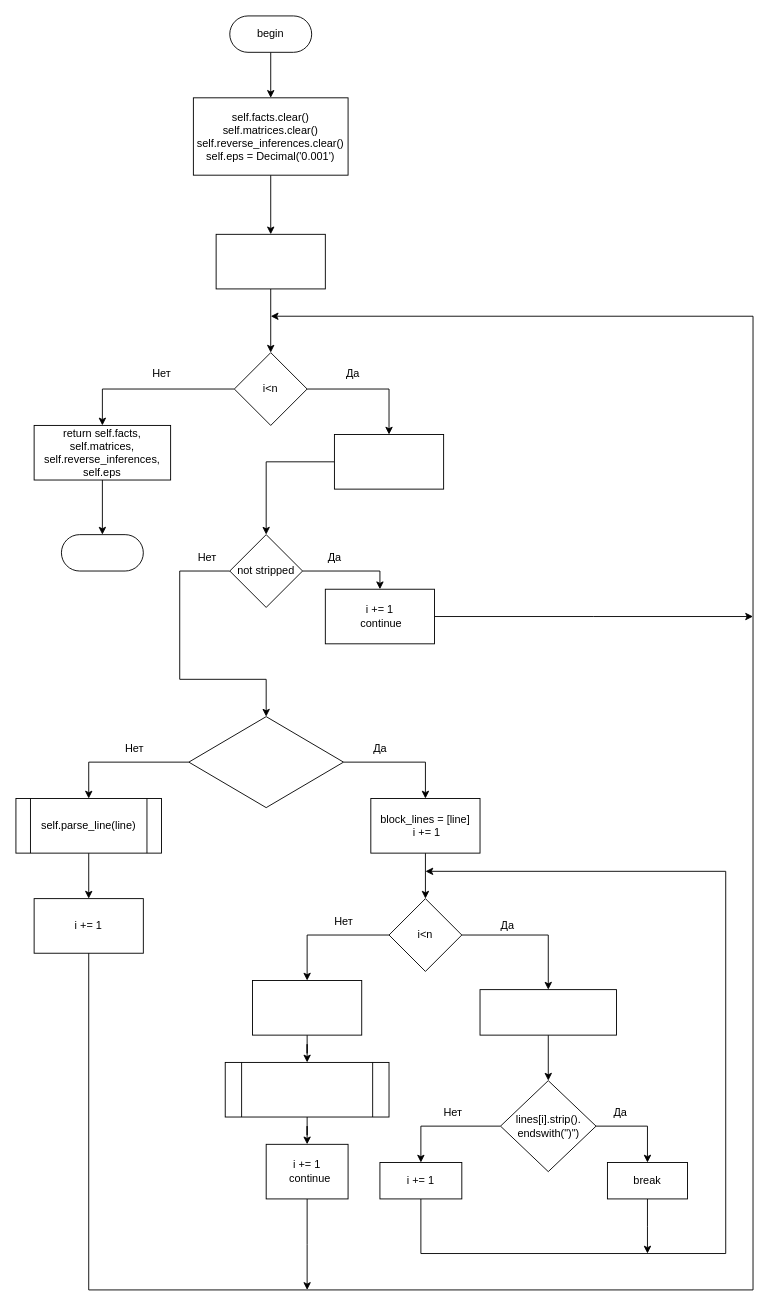
This 776x1313 diagram has some shape labels left out. Here are the shapes that lost their labels. From the top down, the centre of each, then its label:
[270,261]: lines = kb_text.splitlines() i = 0 n = len(lines)
[389,461]: line = lines[i] stripped = line.strip()
[102,552]: end
[266,762]: "=(" in stripped and not stripped.endswith(")")
[307,1007]: block_text = "\n".join(block_lines)
[548,1012]: block_lines.append(lines[i])
[306,1089]: self.parse_line(block_text)
